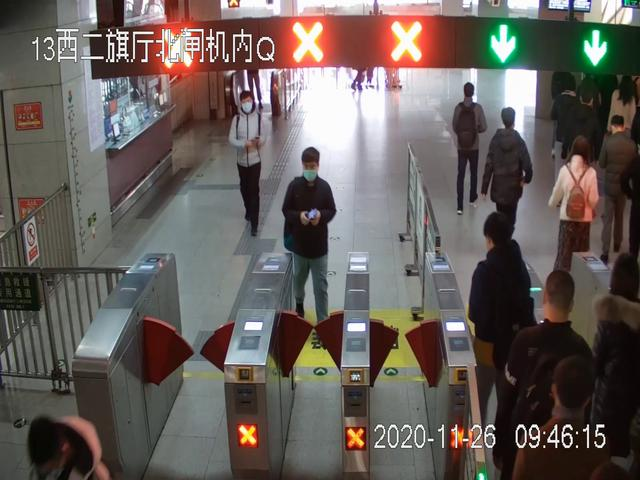person: (493, 269, 594, 480), (469, 213, 531, 439), (283, 148, 338, 331), (550, 134, 599, 312), (480, 107, 533, 267), (596, 115, 640, 264), (228, 91, 269, 237), (452, 82, 484, 216)
